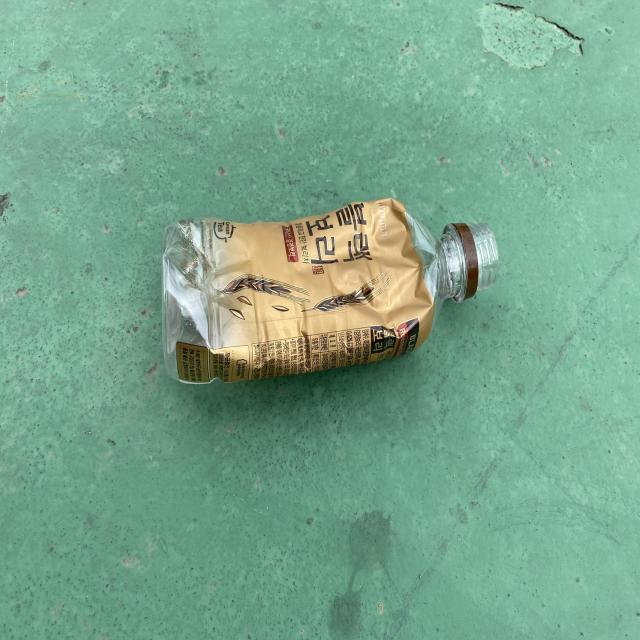plastic: (162, 198, 500, 383)
